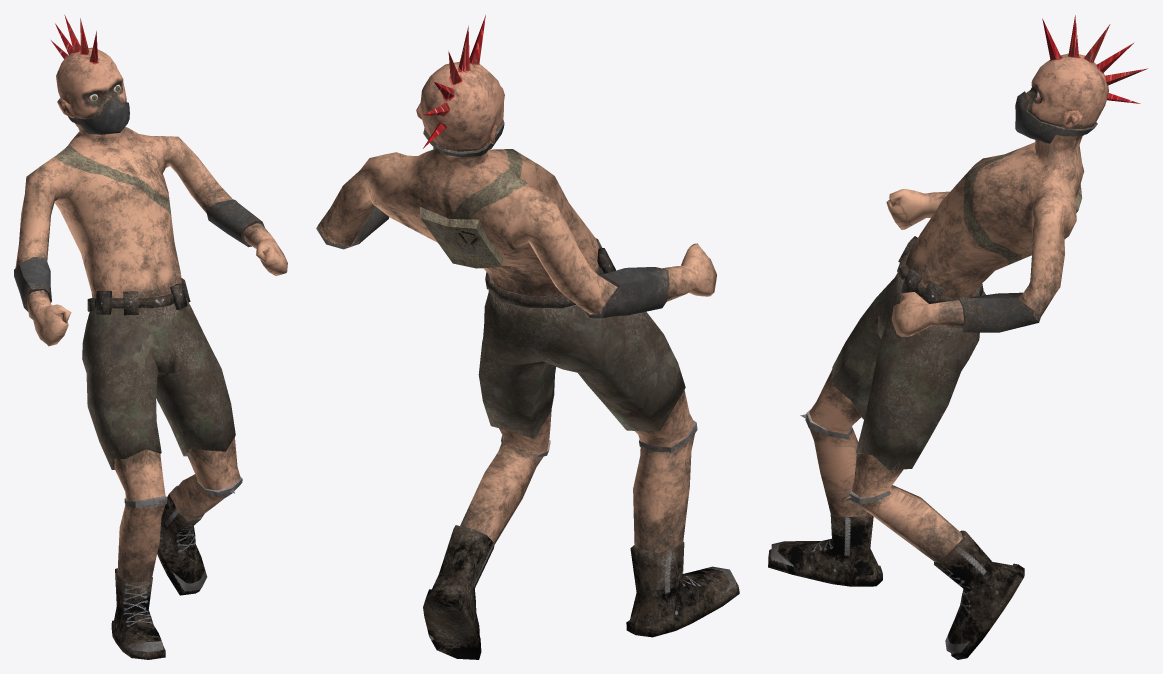
Rendered from Anim_morir_1_npc2.0027.obj.
The picture shows the model from 3 angles, left to right: view 1: azimuth 30°, elevation 25°; view 2: azimuth 150°, elevation 25°; view 3: azimuth 270°, elevation 25°; orthographic projection. The views are drawn at different scales.
Parts seen in each view (by area): view 1: polySurface1; view 2: polySurface1; view 3: polySurface1.
Boxes of the visible parts, x1,y1,x2,y2 form: polySurface1: (14, 15, 287, 659); polySurface1: (316, 15, 739, 659); polySurface1: (768, 15, 1147, 659).
Size of the model in its own units: 4.48 by 9.31 by 5.25.
2 materials, 2 textured.
